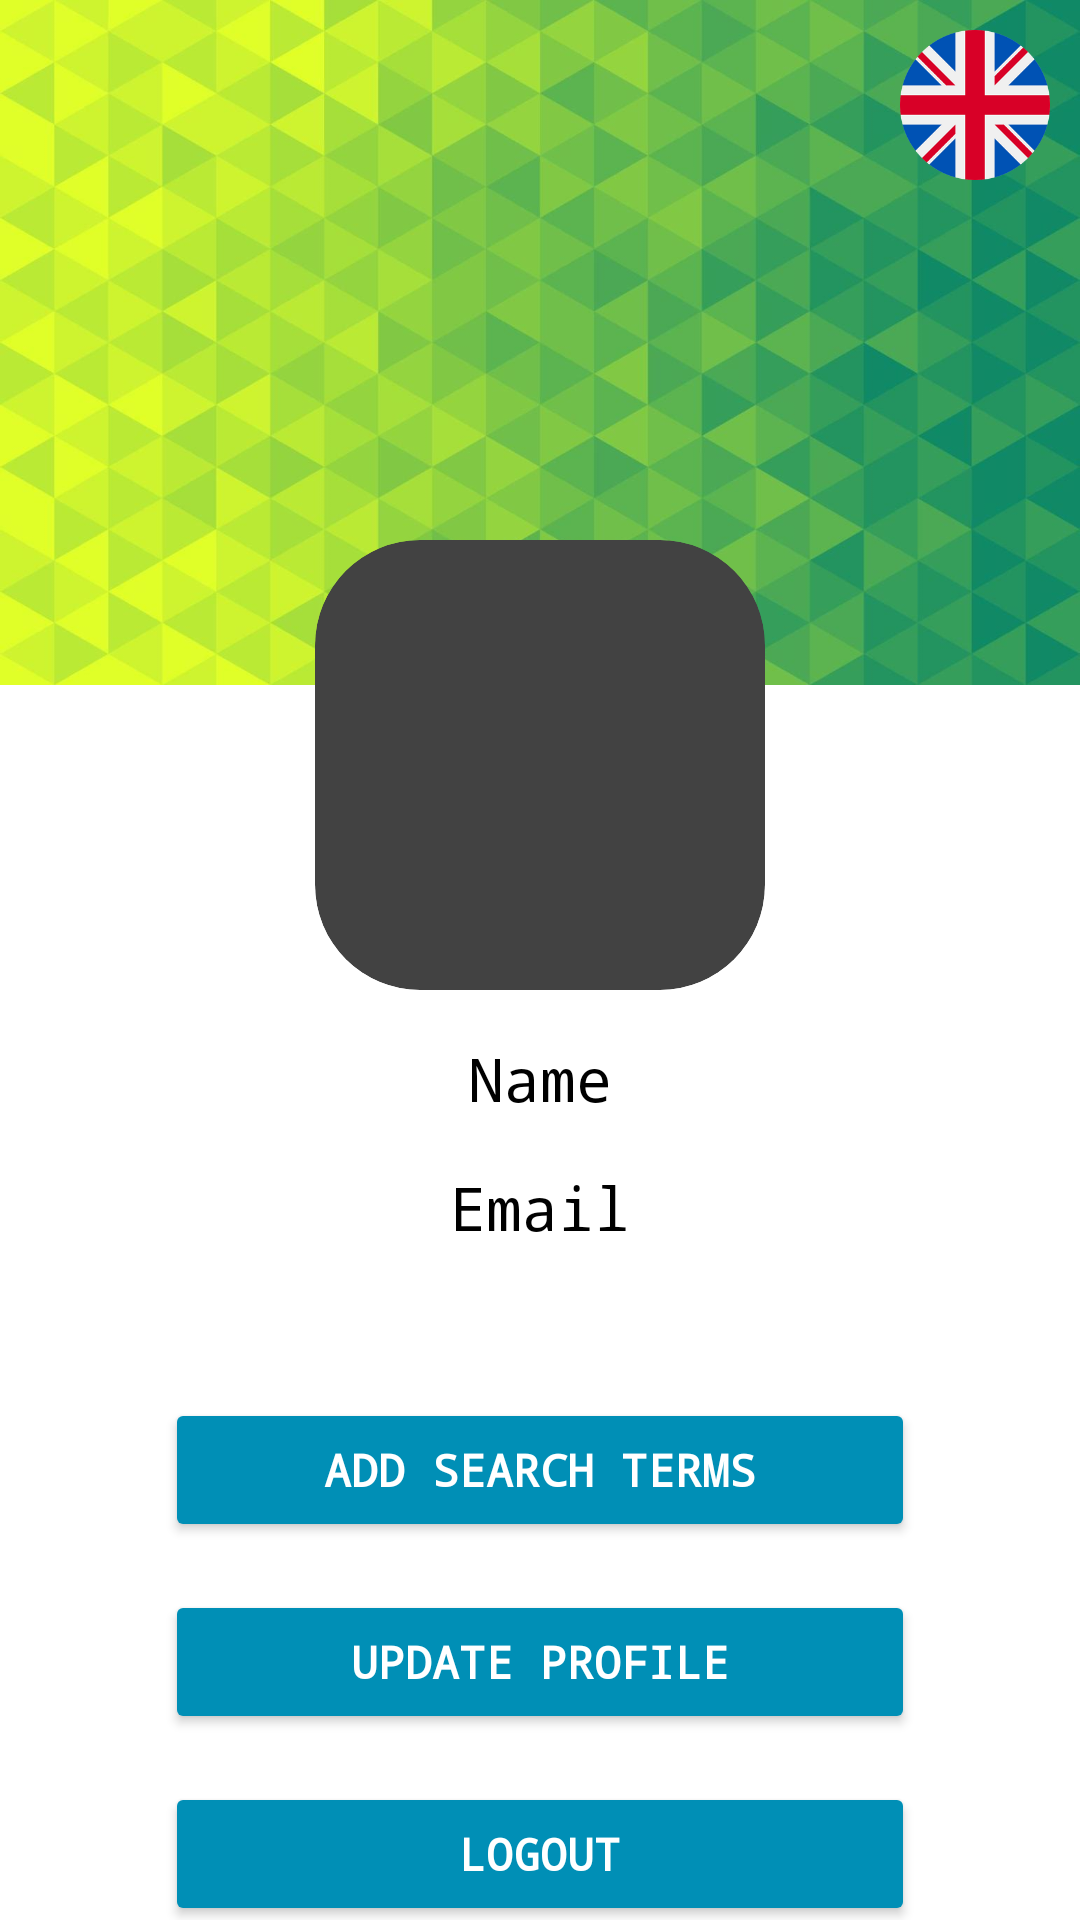

Where icons sit on this 1080px x 1920px app screen, as (x1, y1, x2, y2):
English button: (900, 30, 1050, 180)
